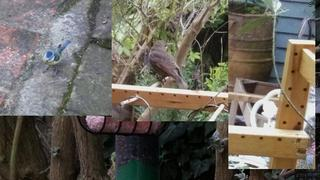blue tit: (42, 40, 72, 78)
starling: (148, 40, 188, 89)
